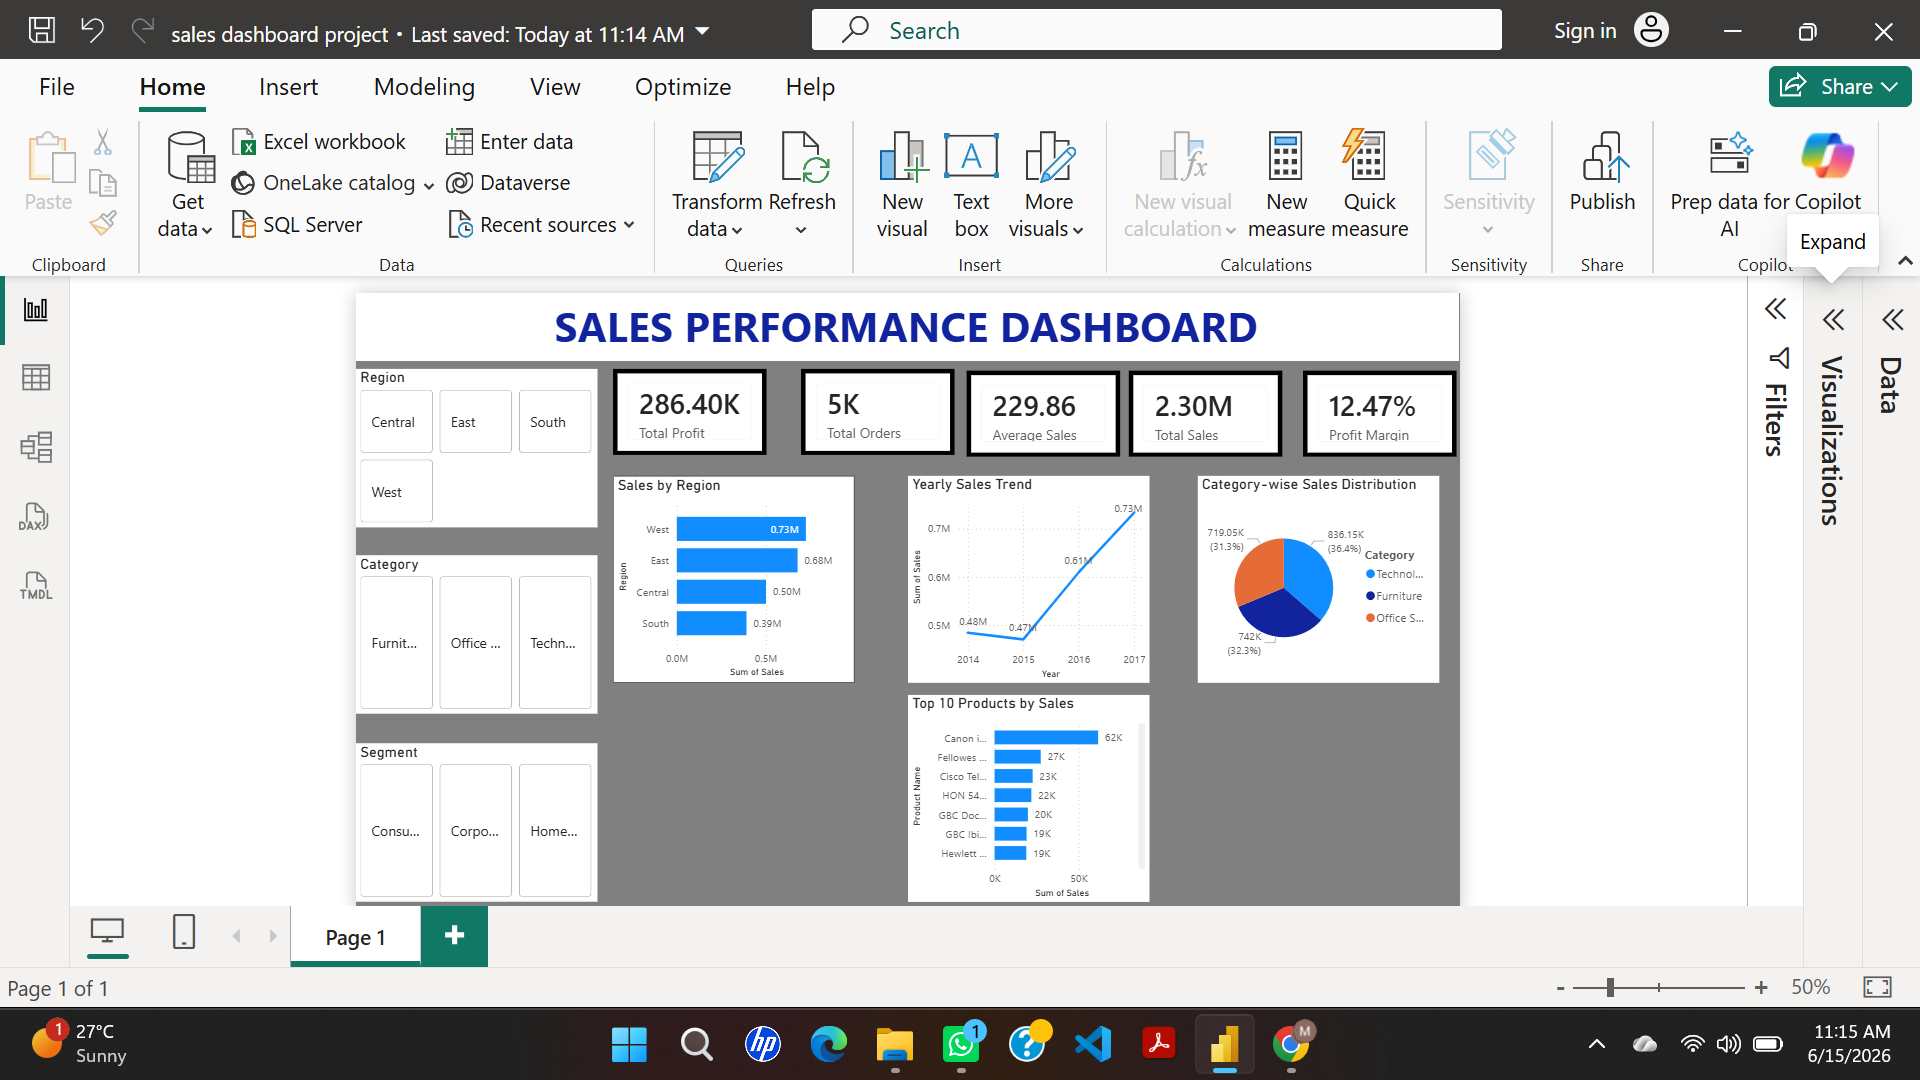

This screenshot's page, from the dashboard's own definition file:
{"tool":"powerbi","page":{"name":"Page 1","canvas":[1280,720],"ordinal":0},"visuals":[{"type":"cardVisual","fields":{"Data":["Sample - Superstore.Total Sales"]},"box":[896,90,178,100],"z":0},{"type":"cardVisual","fields":{"Data":["Sample - Superstore.Total Profit"]},"box":[298,88,178,100],"z":1000},{"type":"cardVisual","fields":{"Data":["Sample - Superstore.Average Sales"]},"box":[708,90,178,100],"z":2000},{"type":"cardVisual","fields":{"Data":["Sample - Superstore.Total Orders"]},"box":[516,88,178,100],"z":3000},{"type":"clusteredBarChart","title":"Sales by Region","fields":{"Category":["Sample - Superstore.Region"],"Y":["Sum(Sample - Superstore.Sales)"]},"box":[298,212,280,240],"z":4000},{"type":"lineChart","title":"Yearly Sales Trend","fields":{"Category":["Sample - Superstore.Order Date.Variation.Date Hierarchy.Year","Sample - Superstore.Order Date.Variation.Date Hierarchy.Month"],"Y":["Sum(Sample - Superstore.Sales)"]},"box":[640,212,280,240],"z":5000},{"type":"pieChart","title":"Category-wise Sales Distribution","fields":{"Category":["Sample - Superstore.Category"],"Y":["Sum(Sample - Superstore.Sales)"]},"box":[976,212,280,240],"z":6000},{"type":"clusteredBarChart","title":"Top 10 Products by Sales","fields":{"Category":["Sample - Superstore.Product Name"],"Y":["Sum(Sample - Superstore.Sales)"]},"box":[640,466,280,240],"z":7000},{"type":"textbox","box":[0,0,1278.9,78.8],"z":7001},{"type":"advancedSlicerVisual","fields":{"Values":["Sample - Superstore.Region"]},"box":[0,88,280,184],"z":7002},{"type":"advancedSlicerVisual","fields":{"Values":["Sample - Superstore.Segment"]},"box":[0,522,280,184],"z":7004},{"type":"cardVisual","fields":{"Data":["Sample - Superstore.Profit Margin"]},"box":[1098,90,178,100],"z":7005},{"type":"advancedSlicerVisual","fields":{"Values":["Sample - Superstore.Category"]},"box":[0,304,280,184],"z":7006}]}

Visuals, with their boxes on the page's 1280x720 design canvas (x1, y1, x2, y2). These are canvas units, not pixel positions in the 1920x1080 screenshot, which may show the page scaled, cropped or inside an application window:
cardVisual - Sample - Superstore.Total Sales: detection(896, 90, 1074, 190)
cardVisual - Sample - Superstore.Total Profit: detection(298, 88, 476, 188)
cardVisual - Sample - Superstore.Average Sales: detection(708, 90, 886, 190)
cardVisual - Sample - Superstore.Total Orders: detection(516, 88, 694, 188)
"Sales by Region" clusteredBarChart: detection(298, 212, 578, 452)
"Yearly Sales Trend" lineChart: detection(640, 212, 920, 452)
"Category-wise Sales Distribution" pieChart: detection(976, 212, 1256, 452)
"Top 10 Products by Sales" clusteredBarChart: detection(640, 466, 920, 706)
textbox: detection(0, 0, 1279, 79)
advancedSlicerVisual - Sample - Superstore.Region: detection(0, 88, 280, 272)
advancedSlicerVisual - Sample - Superstore.Segment: detection(0, 522, 280, 706)
cardVisual - Sample - Superstore.Profit Margin: detection(1098, 90, 1276, 190)
advancedSlicerVisual - Sample - Superstore.Category: detection(0, 304, 280, 488)
